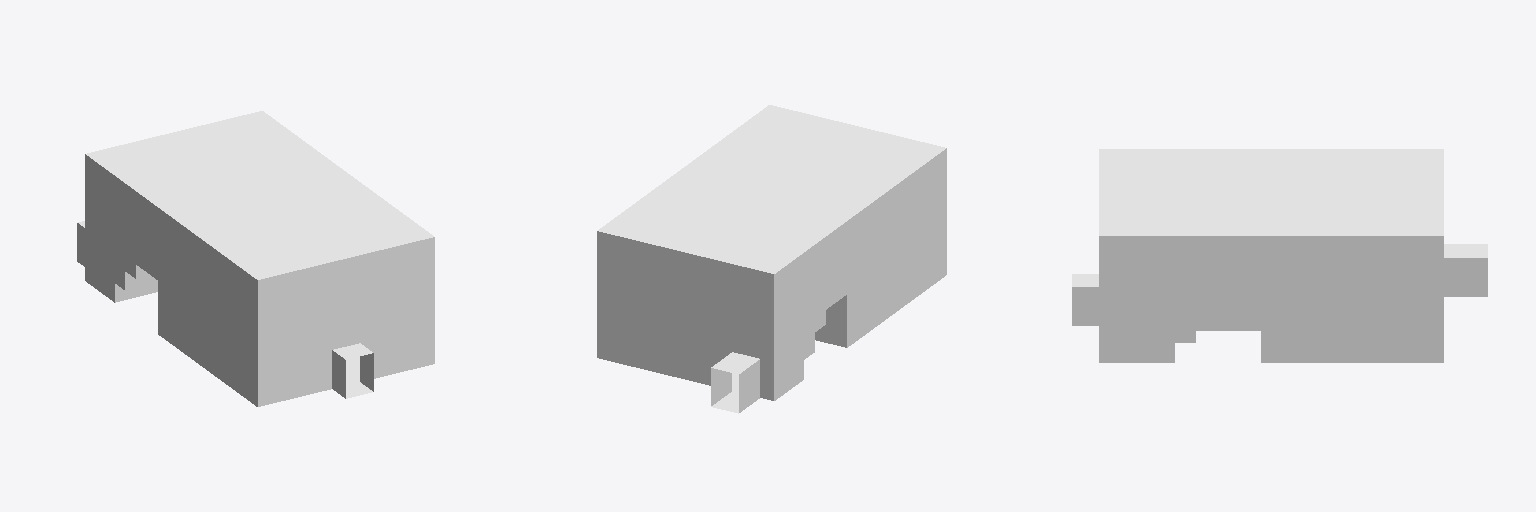
Rendered from room_base5.obj.
3 renders of one model, left to right at view 1: azimuth 30°, elevation 25°; view 2: azimuth 150°, elevation 25°; view 3: azimuth 270°, elevation 25°, orthographic.
Parts seen in each view (by area): view 1: room_base5; view 2: room_base5; view 3: room_base5.
Boxes of the visible parts, x1,y1,x2,y2 form: room_base5: [77, 111, 434, 406]; room_base5: [597, 105, 946, 413]; room_base5: [1072, 149, 1487, 362].
Bounding box in the file's own units: 19 × 13 × 38.5.